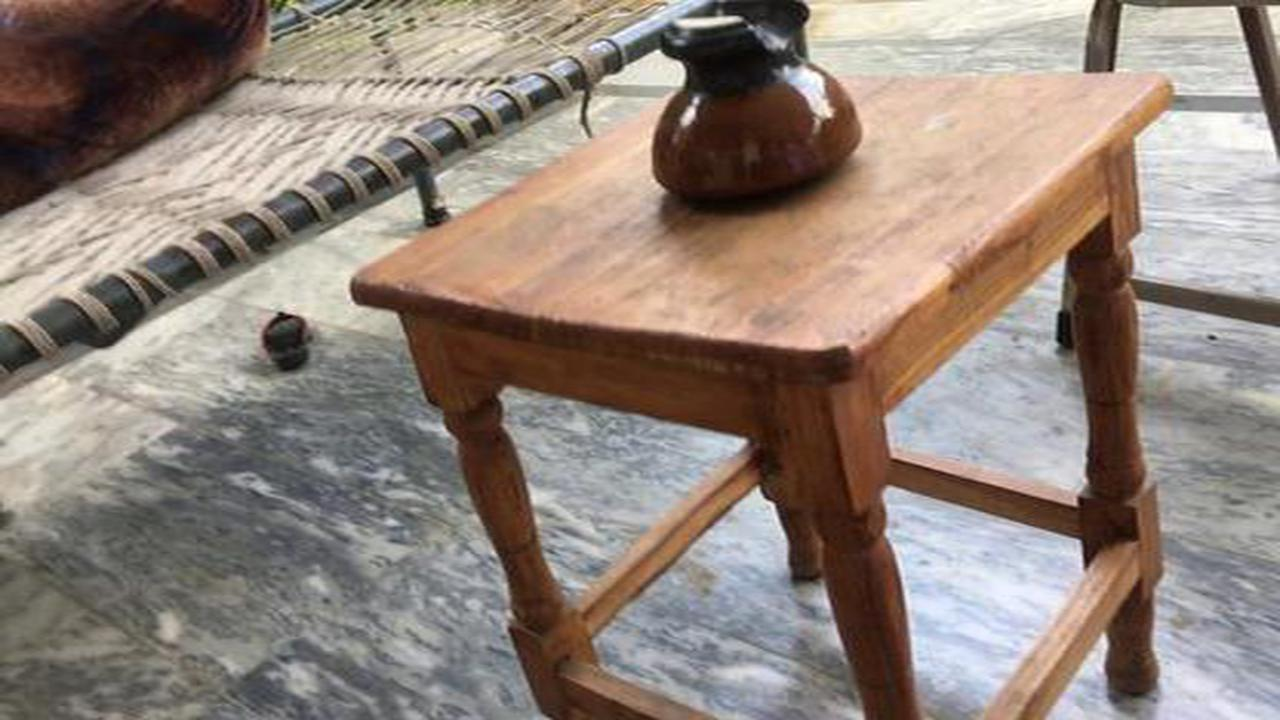insulator_pin: (637, 2, 887, 227)
